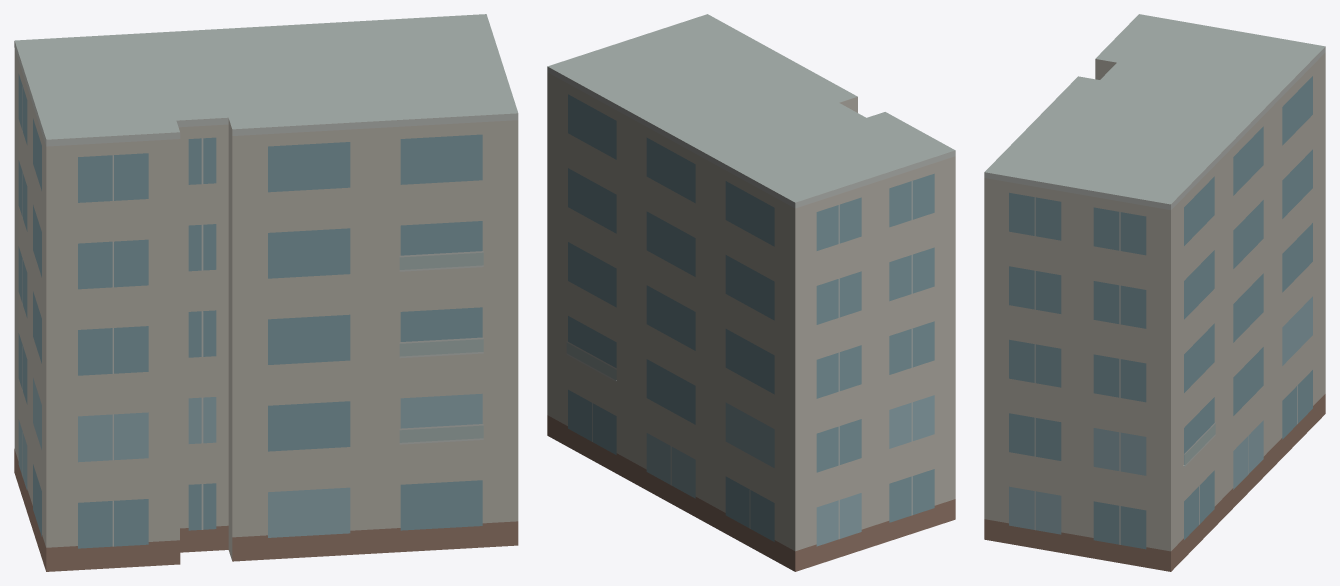
File: survey-upis-32750513.glb
3 renders of one model, left to right at view 1: azimuth 30°, elevation 25°; view 2: azimuth 150°, elevation 25°; view 3: azimuth 270°, elevation 25°, orthographic. The views are drawn at different scales.
Visible parts, largest first — view 1: survey-upis-32750513.tmp; view 2: survey-upis-32750513.tmp; view 3: survey-upis-32750513.tmp.
Boxes of the visible parts, box(x1,y1,x2,y2) form: survey-upis-32750513.tmp: box(14, 14, 518, 571); survey-upis-32750513.tmp: box(547, 14, 955, 571); survey-upis-32750513.tmp: box(984, 14, 1325, 571).
Size of the model in its own units: 17.24 by 15.5 by 13.06.
